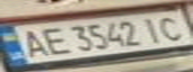2: (118, 17, 145, 47)
3: (66, 21, 93, 53)
4: (103, 19, 127, 48)
5: (87, 20, 109, 52)
A: (12, 26, 54, 60)
C: (151, 12, 193, 43)
E: (33, 25, 72, 56)
I: (136, 16, 172, 44)
